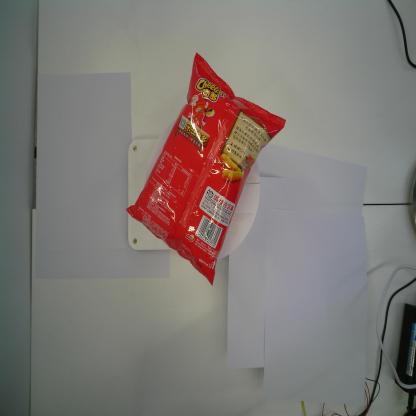Puffed Food: (124, 50, 288, 290)
